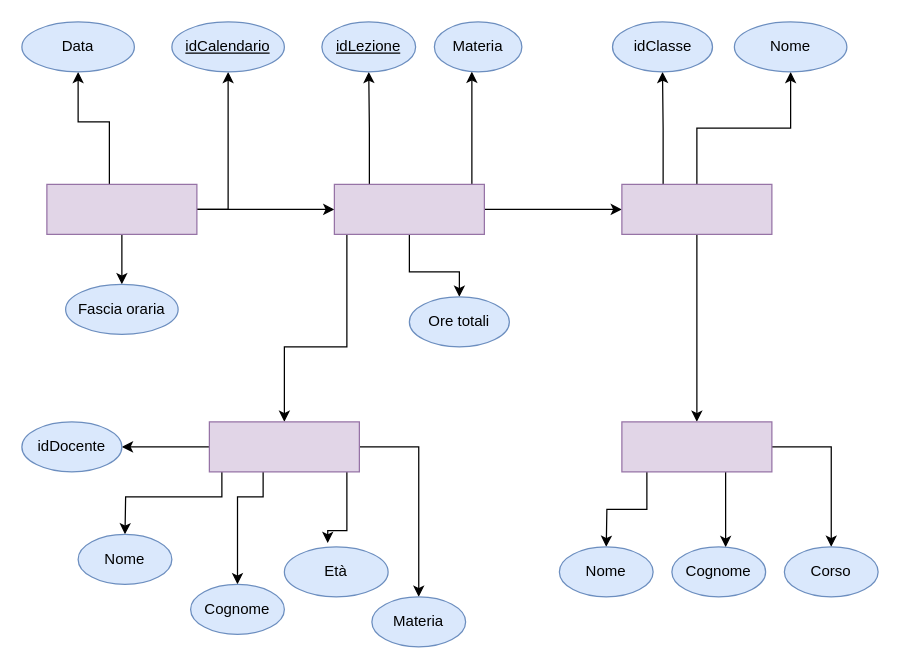
Image size: 900x669. Some labels were removed from this diagram. The box of each missing label's shape, as (x1, y1, x2, y2) in pixels:
CALENDARIO: (46, 183, 197, 234)
CLASSI: (621, 183, 772, 234)
DOCENTI: (208, 421, 359, 472)
LEZIONI: (333, 183, 484, 234)
STUDENTI: (621, 421, 772, 472)
